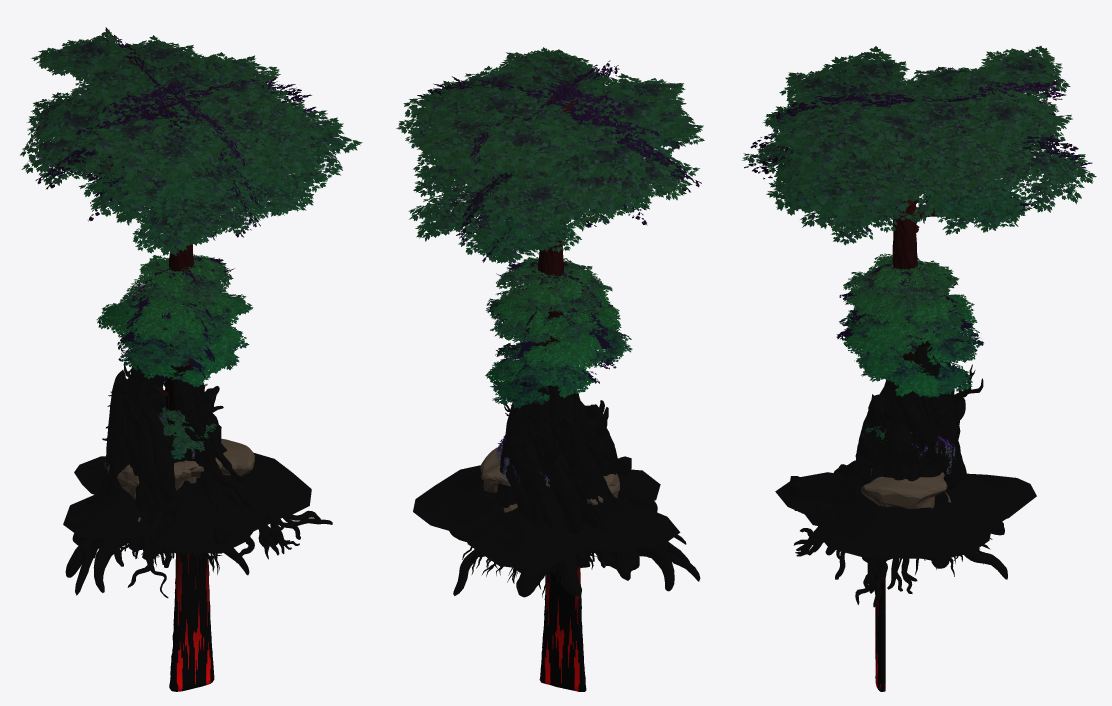
The model's file is synty.glb.
3 renders of one model, left to right at view 1: azimuth 30°, elevation 25°; view 2: azimuth 150°, elevation 25°; view 3: azimuth 270°, elevation 25°, orthographic. The views are drawn at different scales.
Parts seen in each view (by area): view 1: Tree_Giant_01, Tree_Giant_02, Tree_Giant_02_Far, Tree_Trunk_01, Hill_02, Tree_Large_02, Waterfall_02, Tree_Large_01_Far, Tree_Large_02_Far, Hill_05, Tree_Giant_02_Card, Tree_Large_01 (+5 smaller); view 2: Tree_Giant_01, Tree_Trunk_01, Tree_Giant_02, Tree_Giant_02_Far, Hill_02, Tree_Large_01_Far, Hill_05, Tree_Large_02_Far, Tree_Large_02, Tree_Large_01, Waterfall_02, Tree_Giant_02_Card (+5 smaller); view 3: Tree_Giant_01, Tree_Giant_02, Tree_Giant_02_Far, Tree_Trunk_01, Hill_02, Tree_Large_01_Far, Tree_Large_02_Far, Tree_Large_02, Hill_05, Tree_Large_01, Dirt_Cliff_04, Tree_Giant_02_Card (+4 smaller).
Boxes of the visible parts, x1,y1,x2,y2 form: Tree_Giant_01: (20, 52, 343, 573); Tree_Giant_02: (31, 34, 356, 580); Tree_Giant_02_Far: (36, 29, 362, 581); Tree_Trunk_01: (65, 341, 332, 598); Hill_02: (63, 452, 311, 539); Tree_Large_02: (96, 254, 253, 392); Waterfall_02: (169, 553, 214, 691); Tree_Large_01_Far: (117, 255, 252, 382); Tree_Large_02_Far: (97, 255, 251, 392); Hill_05: (74, 456, 253, 553); Tree_Giant_02_Card: (69, 27, 316, 574); Tree_Large_01: (117, 260, 248, 386); Tree_Giant_01: (396, 77, 699, 597); Tree_Trunk_01: (449, 345, 700, 597); Tree_Giant_02: (423, 47, 704, 589); Tree_Giant_02_Far: (422, 50, 701, 584); Hill_02: (413, 465, 680, 552); Tree_Large_01_Far: (486, 258, 631, 408); Hill_05: (467, 469, 660, 569); Tree_Large_02_Far: (485, 257, 621, 398); Tree_Large_02: (487, 257, 620, 397); Tree_Large_01: (490, 262, 632, 407); Waterfall_02: (539, 567, 586, 691); Tree_Giant_02_Card: (457, 60, 668, 583); Tree_Giant_01: (742, 68, 1096, 576); Tree_Giant_02: (764, 46, 1070, 574); Tree_Giant_02_Far: (763, 46, 1060, 568); Tree_Trunk_01: (793, 340, 1007, 607); Hill_02: (818, 460, 991, 558); Tree_Large_01_Far: (839, 256, 983, 397); Tree_Large_02_Far: (843, 253, 977, 397); Tree_Large_02: (842, 254, 976, 397); Hill_05: (775, 472, 1036, 520); Tree_Large_01: (840, 262, 976, 404); Dirt_Cliff_04: (861, 472, 947, 508); Tree_Giant_02_Card: (750, 81, 1065, 257).
Bounding box in the file's own units: 56.53 × 110 × 58.86.
Materials: 26 (24 with a texture image).
